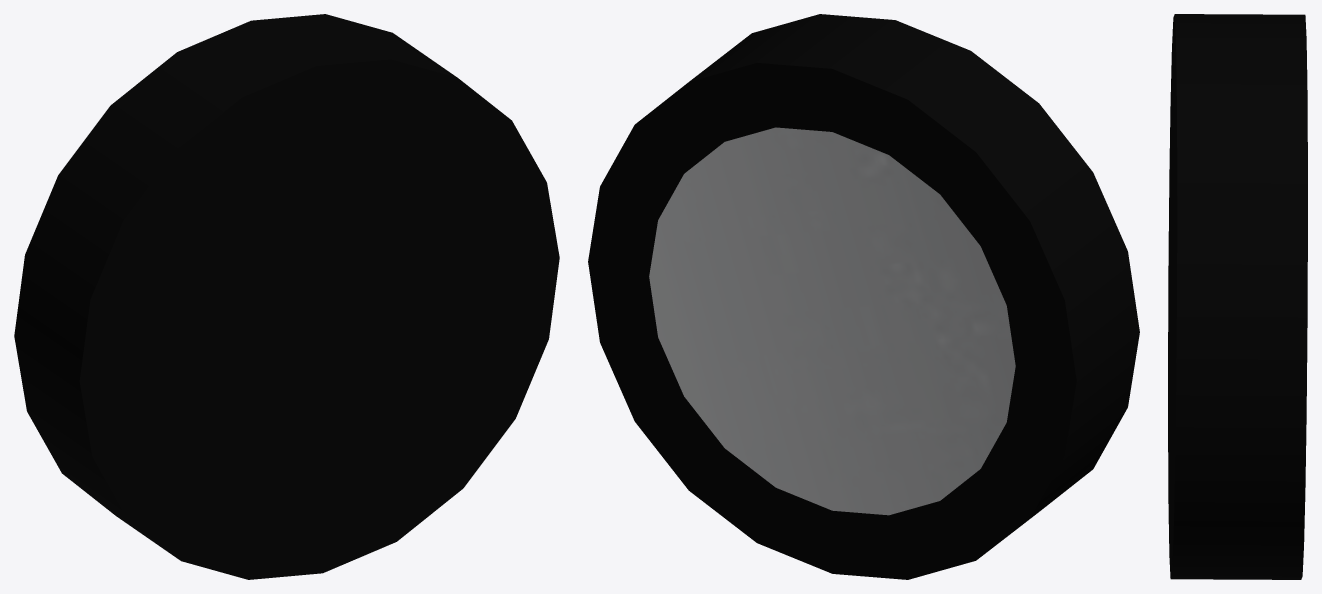
The model's file is LlantaDer.obj.
3 views of the same model, side by side, from view 1: azimuth 30°, elevation 25°; view 2: azimuth 150°, elevation 25°; view 3: azimuth 270°, elevation 25° (orthographic).
Visible parts, largest first — view 1: LlantaDer:polySurface1776polySurface1769; view 2: LlantaDer:polySurface1776polySurface1769; view 3: LlantaDer:polySurface1776polySurface1769.
Part boxes in pixels (x1,y1,x2,y2): LlantaDer:polySurface1776polySurface1769: [14, 14, 559, 579]; LlantaDer:polySurface1776polySurface1769: [588, 14, 1139, 579]; LlantaDer:polySurface1776polySurface1769: [1168, 14, 1307, 579].
Bounding box in the file's own units: 1.26 × 1.26 × 0.3086.
2 materials, 2 textured.
